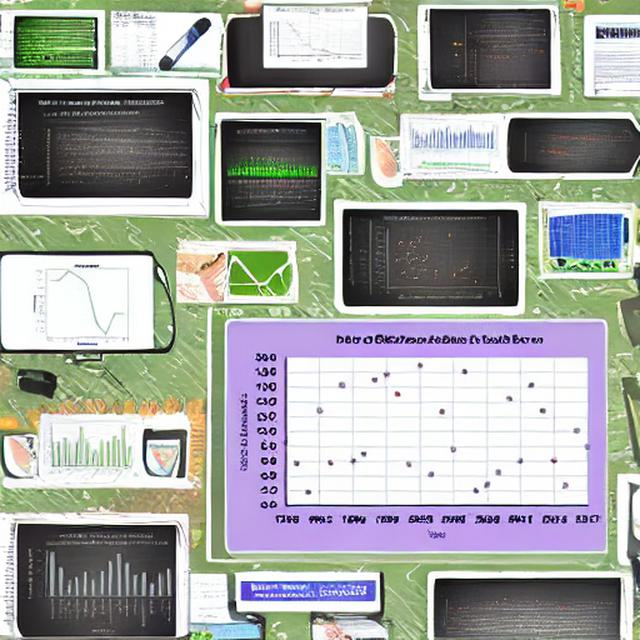Graph: (228, 325, 605, 551), (25, 530, 176, 637), (367, 214, 498, 302), (21, 258, 150, 347), (41, 418, 134, 484), (265, 7, 365, 65), (468, 40, 551, 89), (404, 116, 463, 160)
